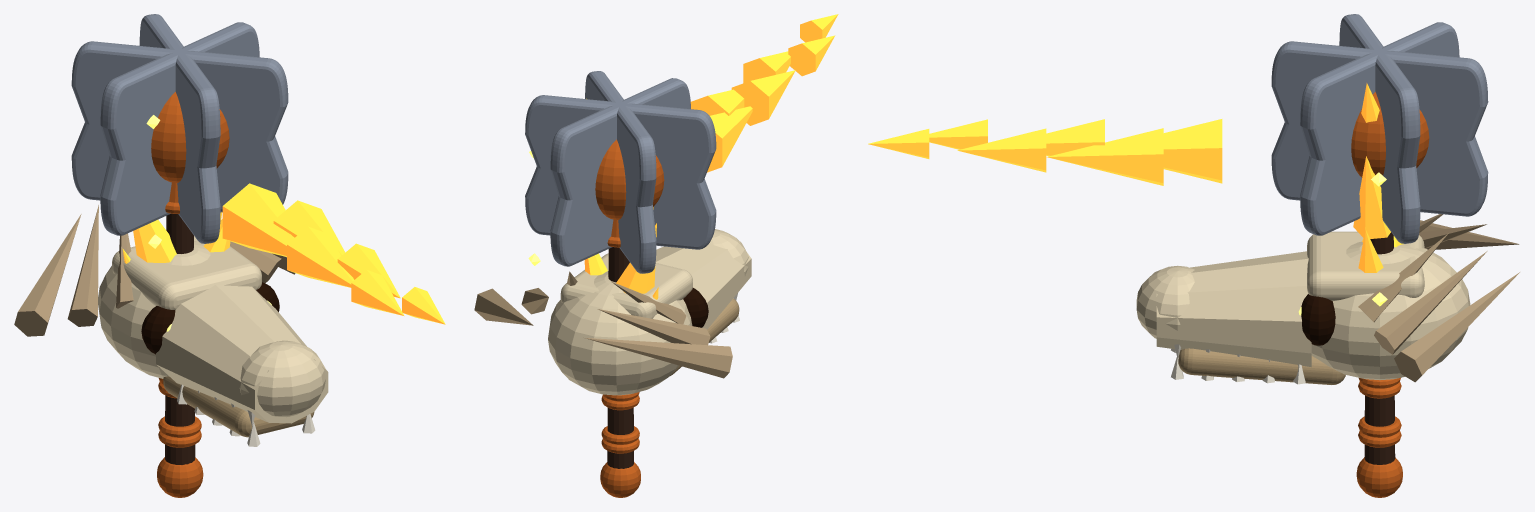
File: drmace.glb
The picture shows the model from 3 angles, left to right: view 1: azimuth 30°, elevation 25°; view 2: azimuth 150°, elevation 25°; view 3: azimuth 270°, elevation 25°; orthographic projection. The views are drawn at different scales.
Visible parts, largest first — view 1: spikes, bone, flame, horn, head, boneDark, grip, pommel, socket, wrap, teeth; view 2: spikes, bone, flame, horn, head, grip, pommel, wrap, socket, boneDark; view 3: spikes, bone, flame, horn, boneDark, head, grip, wrap, socket, pommel.
Part boxes in pixels (x1,y1,x2,y2): spikes: (71,14,288,243); bone: (98,236,328,423); flame: (122,183,445,324); horn: (14,205,295,336); head: (151,92,229,182); boneDark: (163,376,314,437); grip: (165,213,195,464); pommel: (157,182,203,497); socket: (141,282,279,354); wrap: (158,378,201,447); teeth: (177,384,315,446); spikes: (525,71,716,273); bone: (548,229,751,395); flame: (584,14,838,299); horn: (474,271,732,378); head: (595,139,664,219); grip: (607,247,633,468); pommel: (600,219,640,497); wrap: (601,392,639,453); socket: (683,288,708,327); boneDark: (669,298,739,376); spikes: (1271,14,1488,243); bone: (1136,231,1470,380); flame: (868,83,1403,272); horn: (1358,214,1519,382); boneDark: (1178,348,1345,384); head: (1351,92,1429,177); grip: (1364,232,1395,464); wrap: (1358,377,1401,447); socket: (1301,294,1335,345); pommel: (1356,457,1402,497).
Size of the model in its own units: 1.85 by 2.71 by 3.62.
